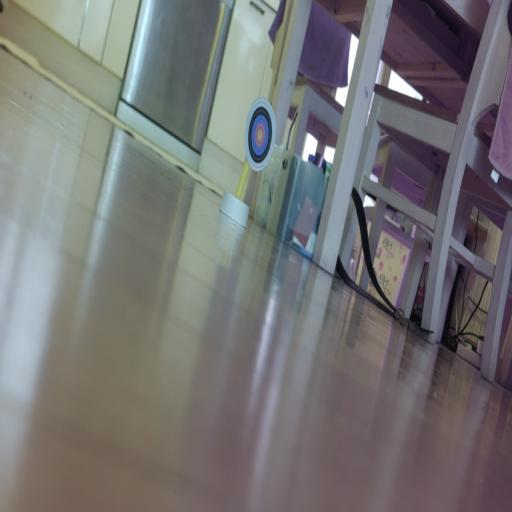target: (244, 97, 275, 171)
